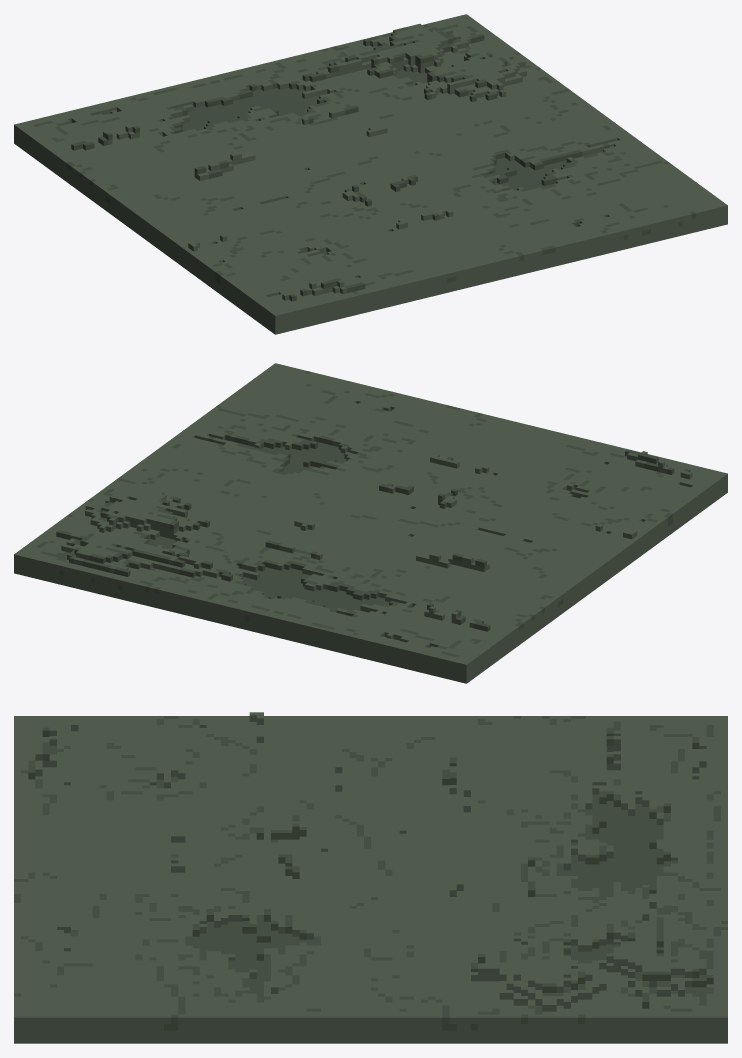
File: CountrySide-2-GroundTile2.obj
3 renders of one model, top to bottom at view 1: azimuth 30°, elevation 25°; view 2: azimuth 150°, elevation 25°; view 3: azimuth 270°, elevation 25°, orthographic. The views are drawn at different scales.
Visible parts, largest first — view 1: GroundTile2; view 2: GroundTile2; view 3: GroundTile2.
Boxes of the visible parts, <box> form: GroundTile2: <box>14,14,727,334</box>; GroundTile2: <box>14,363,727,683</box>; GroundTile2: <box>14,712,727,1043</box>.
Size of the model in its own units: 10 by 0.6 by 10.
1 material, 1 textured.
